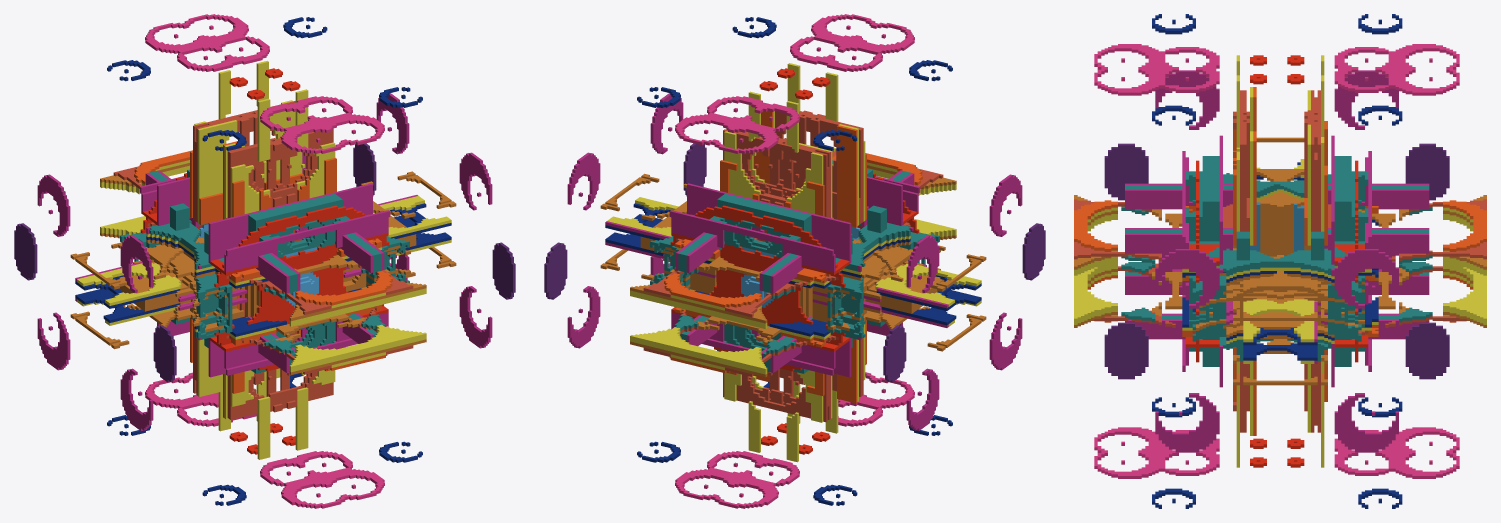
File: thing.obj
3 renders of one model, left to right at view 1: azimuth 30°, elevation 25°; view 2: azimuth 150°, elevation 25°; view 3: azimuth 270°, elevation 25°, orthographic. The views are drawn at different scales.
Size of the model in its own units: 12.6 by 12.6 by 12.2.
1 material, 1 textured.
